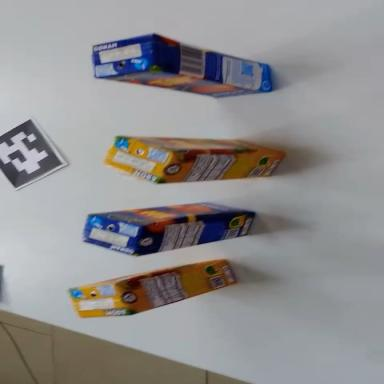HIT-MANGO: (88, 22, 280, 114), (81, 194, 259, 262)
HIT-MORA: (68, 254, 239, 326), (104, 136, 285, 187)
cara_F: (98, 60, 267, 106), (91, 195, 255, 231), (119, 136, 287, 156)
